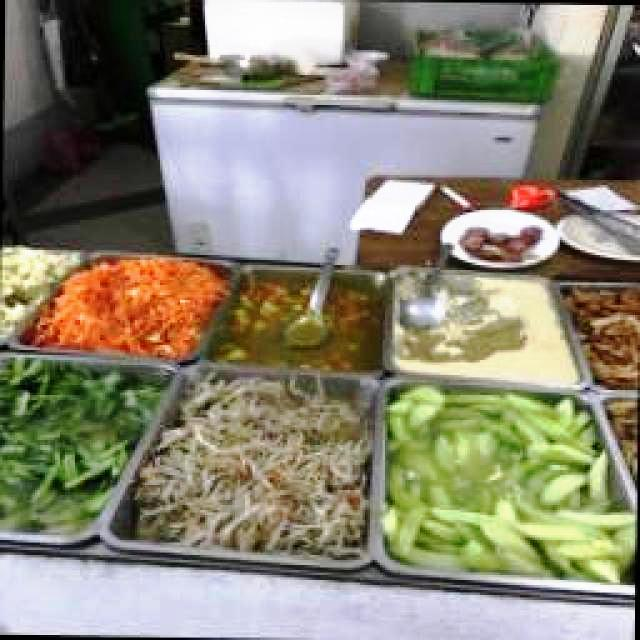carrot_eggs: (23, 256, 230, 364)
mung_bean_sprouts: (129, 365, 372, 562)
